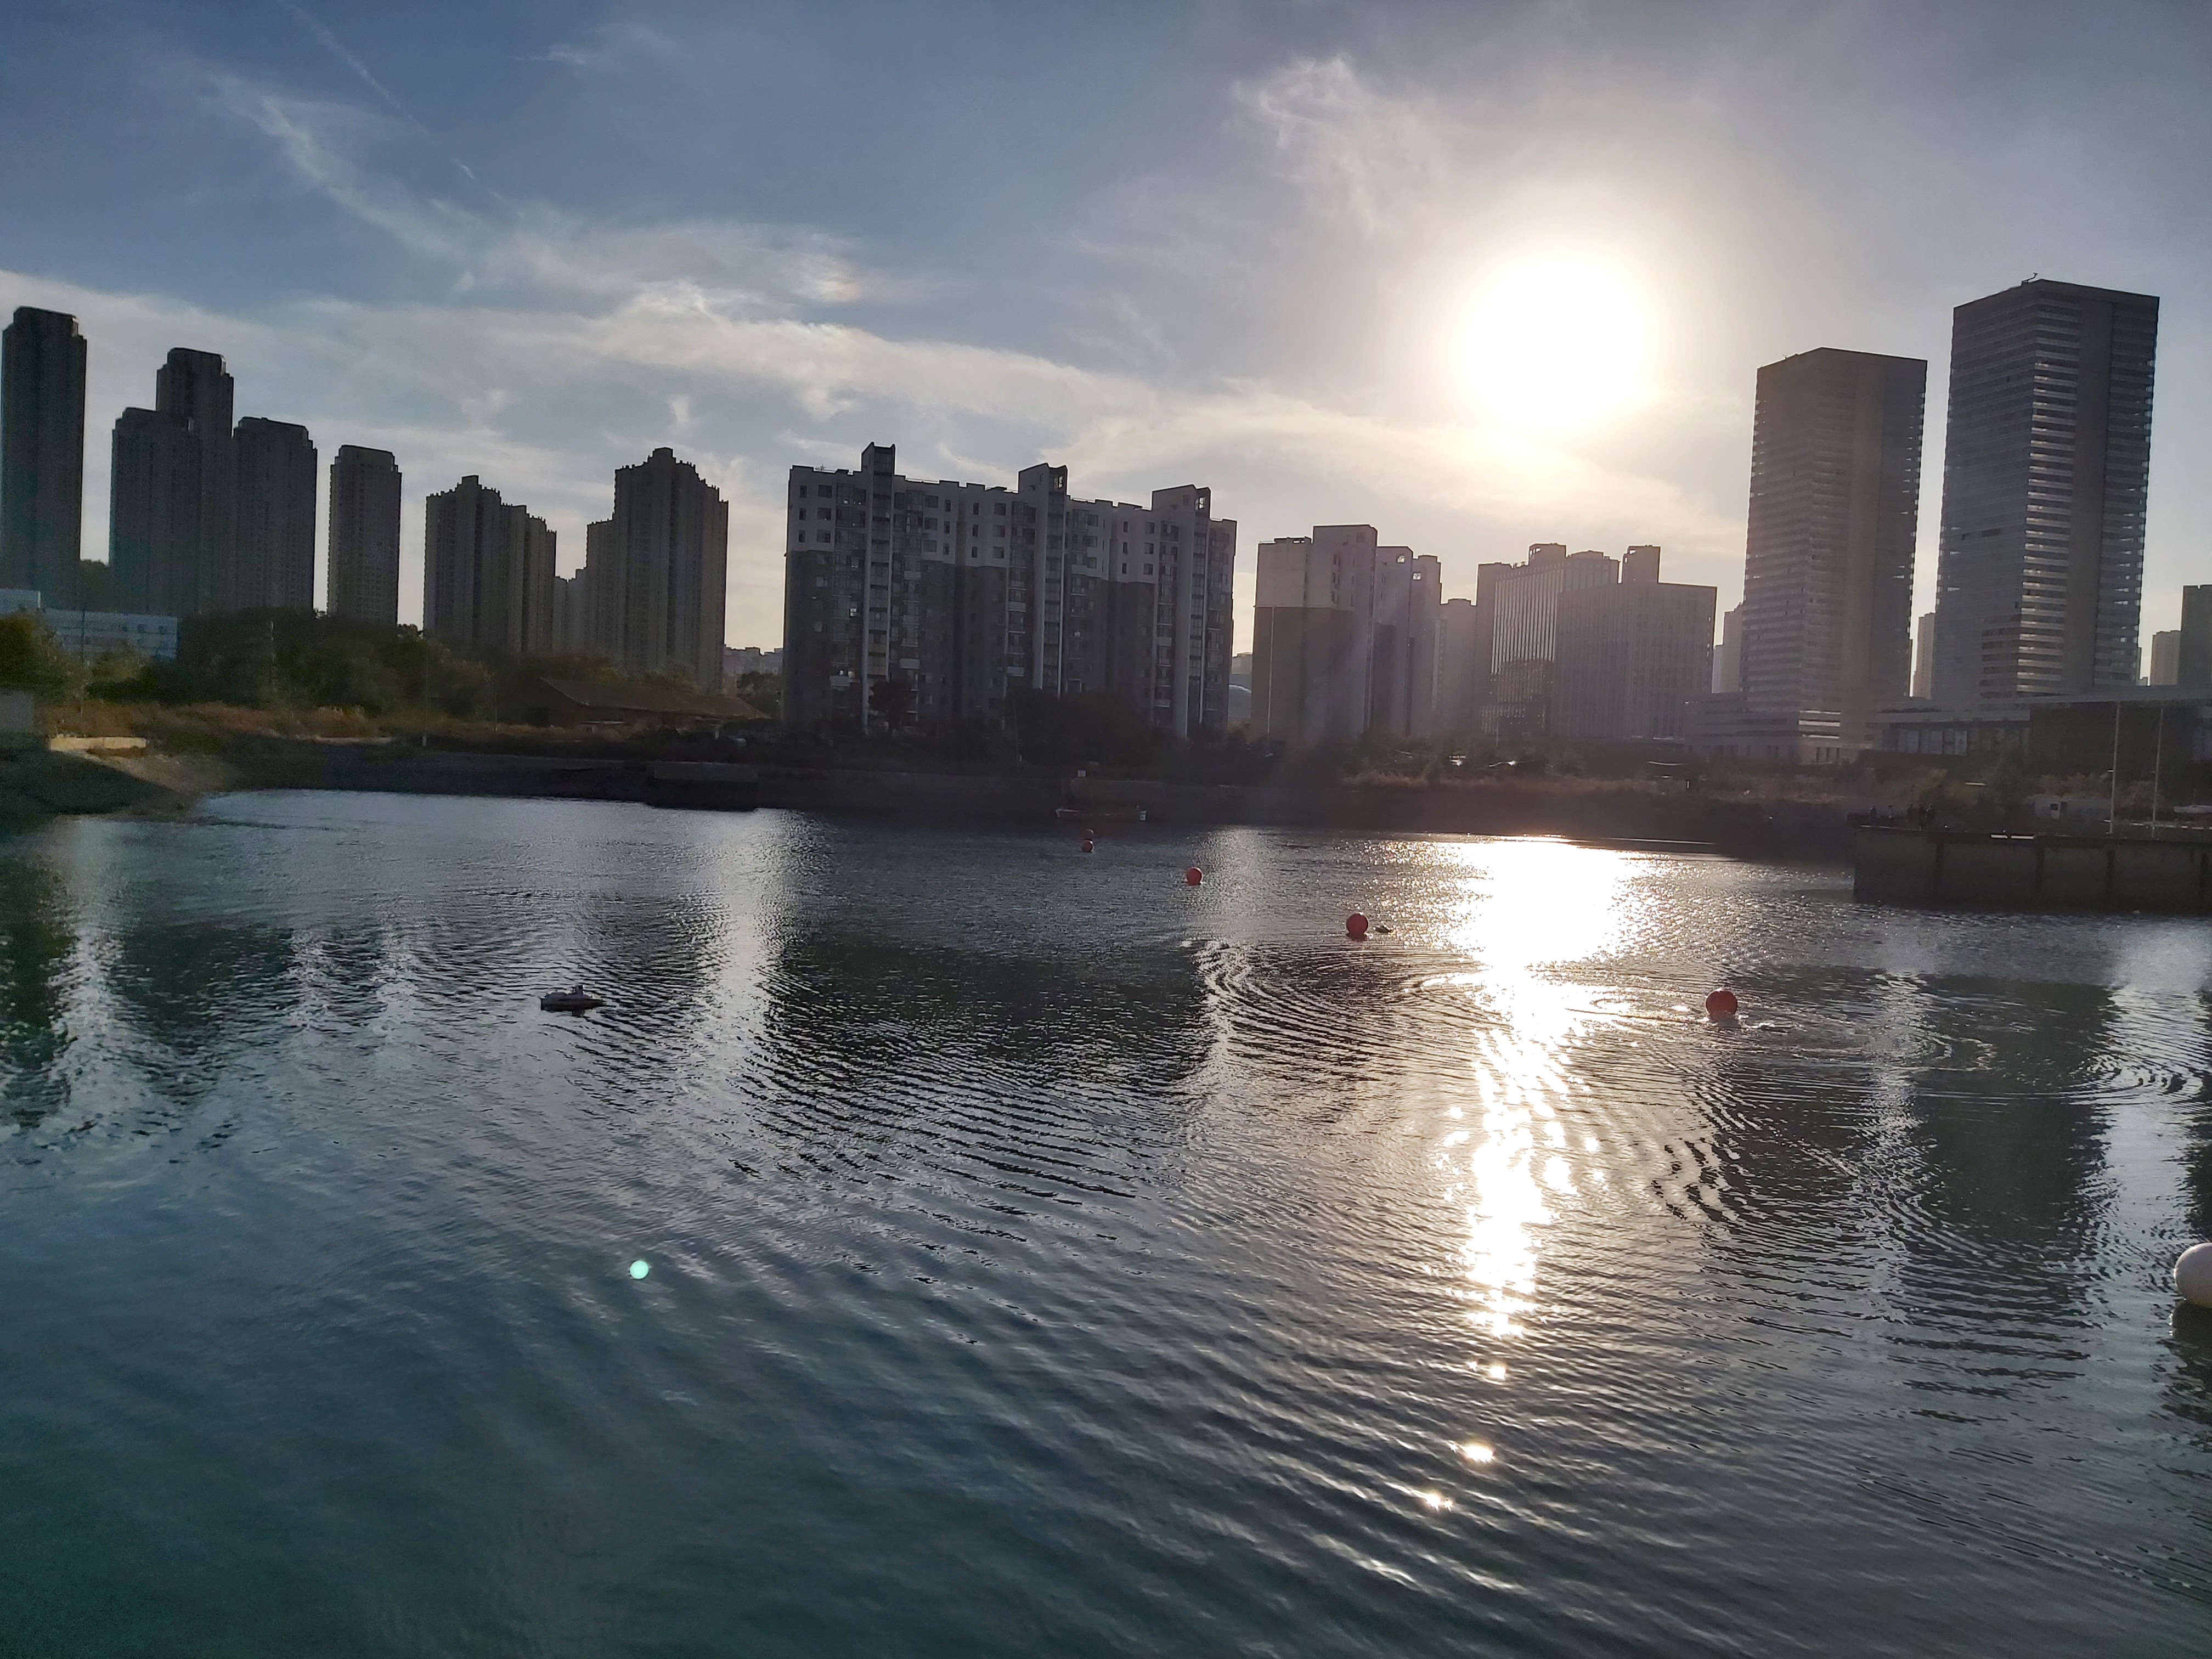ball: (1705, 983, 1742, 1018), (1345, 911, 1372, 939)
boat: (533, 983, 606, 1012)
